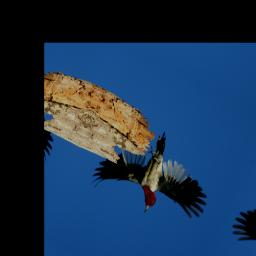Woodpecker: (88, 108, 224, 237)
